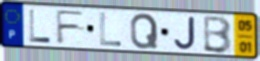B: (202, 15, 234, 55)
F: (54, 9, 87, 46)
J: (172, 15, 197, 51)
L: (28, 8, 53, 44), (98, 12, 123, 48)
Q: (129, 12, 160, 50)
